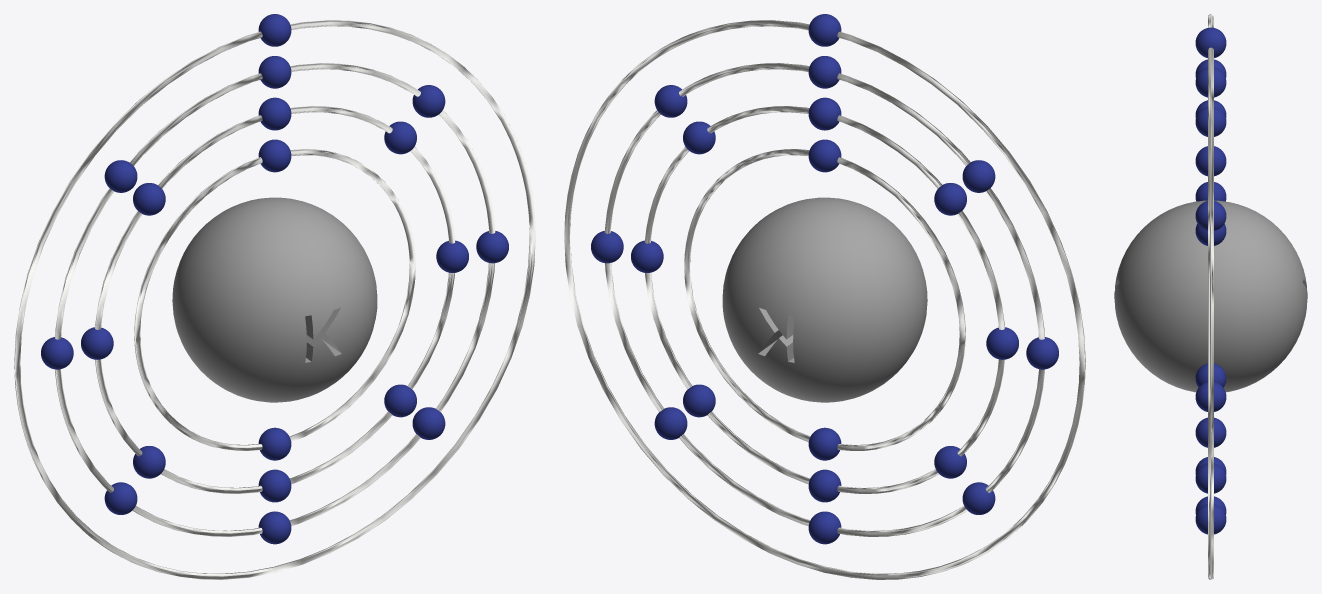
3 renders of one model, left to right at view 1: azimuth 30°, elevation 25°; view 2: azimuth 150°, elevation 25°; view 3: azimuth 270°, elevation 25°, orthographic. The views are drawn at different scales.
Parts seen in each view (by area): view 1: Body1, Body5, Body4, Body3, Body2, Body18, Body22, Body11, Body15, Body8, Body7, Body6 (+12 smaller); view 2: Body1, Body5, Body4, Body3, Body2, Body18, Body22, Body11, Body15, Body8, Body6, Body7 (+12 smaller); view 3: Body1, Body5, Body9, Body8, Body15, Body22, Body6, Body10, Body7, Body23, Body24, Body16 (+2 smaller).
Part boxes in pixels (x1,y1,x2,y2): Body1: (172,197,377,402); Body5: (14,20,535,579); Body4: (55,63,495,536); Body3: (95,106,454,493); Body2: (134,149,415,450); Body18: (104,160,137,192); Body22: (412,407,445,439); Body11: (133,183,165,215); Body15: (384,384,416,417); Body8: (258,56,291,88); Body7: (258,97,291,130); Body6: (258,139,291,172); Body1: (722,197,927,402); Body5: (564,20,1085,579); Body4: (604,63,1044,536); Body3: (645,106,1004,493); Body2: (684,149,965,450); Body18: (962,160,995,192); Body22: (654,407,687,439); Body11: (934,183,966,215); Body15: (683,384,715,417); Body8: (808,56,841,88); Body6: (808,139,841,172); Body7: (808,97,841,130); Body1: (1114,200,1307,392); Body5: (1208,14,1213,579); Body9: (1195,27,1226,57); Body8: (1195,67,1226,97); Body15: (1195,463,1226,493); Body22: (1195,504,1226,534); Body6: (1195,146,1226,176); Body10: (1195,417,1226,447); Body7: (1195,107,1226,136); Body23: (1195,382,1226,411); Body24: (1195,201,1226,230); Body16: (1195,363,1226,387).
Size of the model in its own units: 293 by 299 by 99.98.
